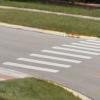Crosswalk: (5, 34, 97, 77)
